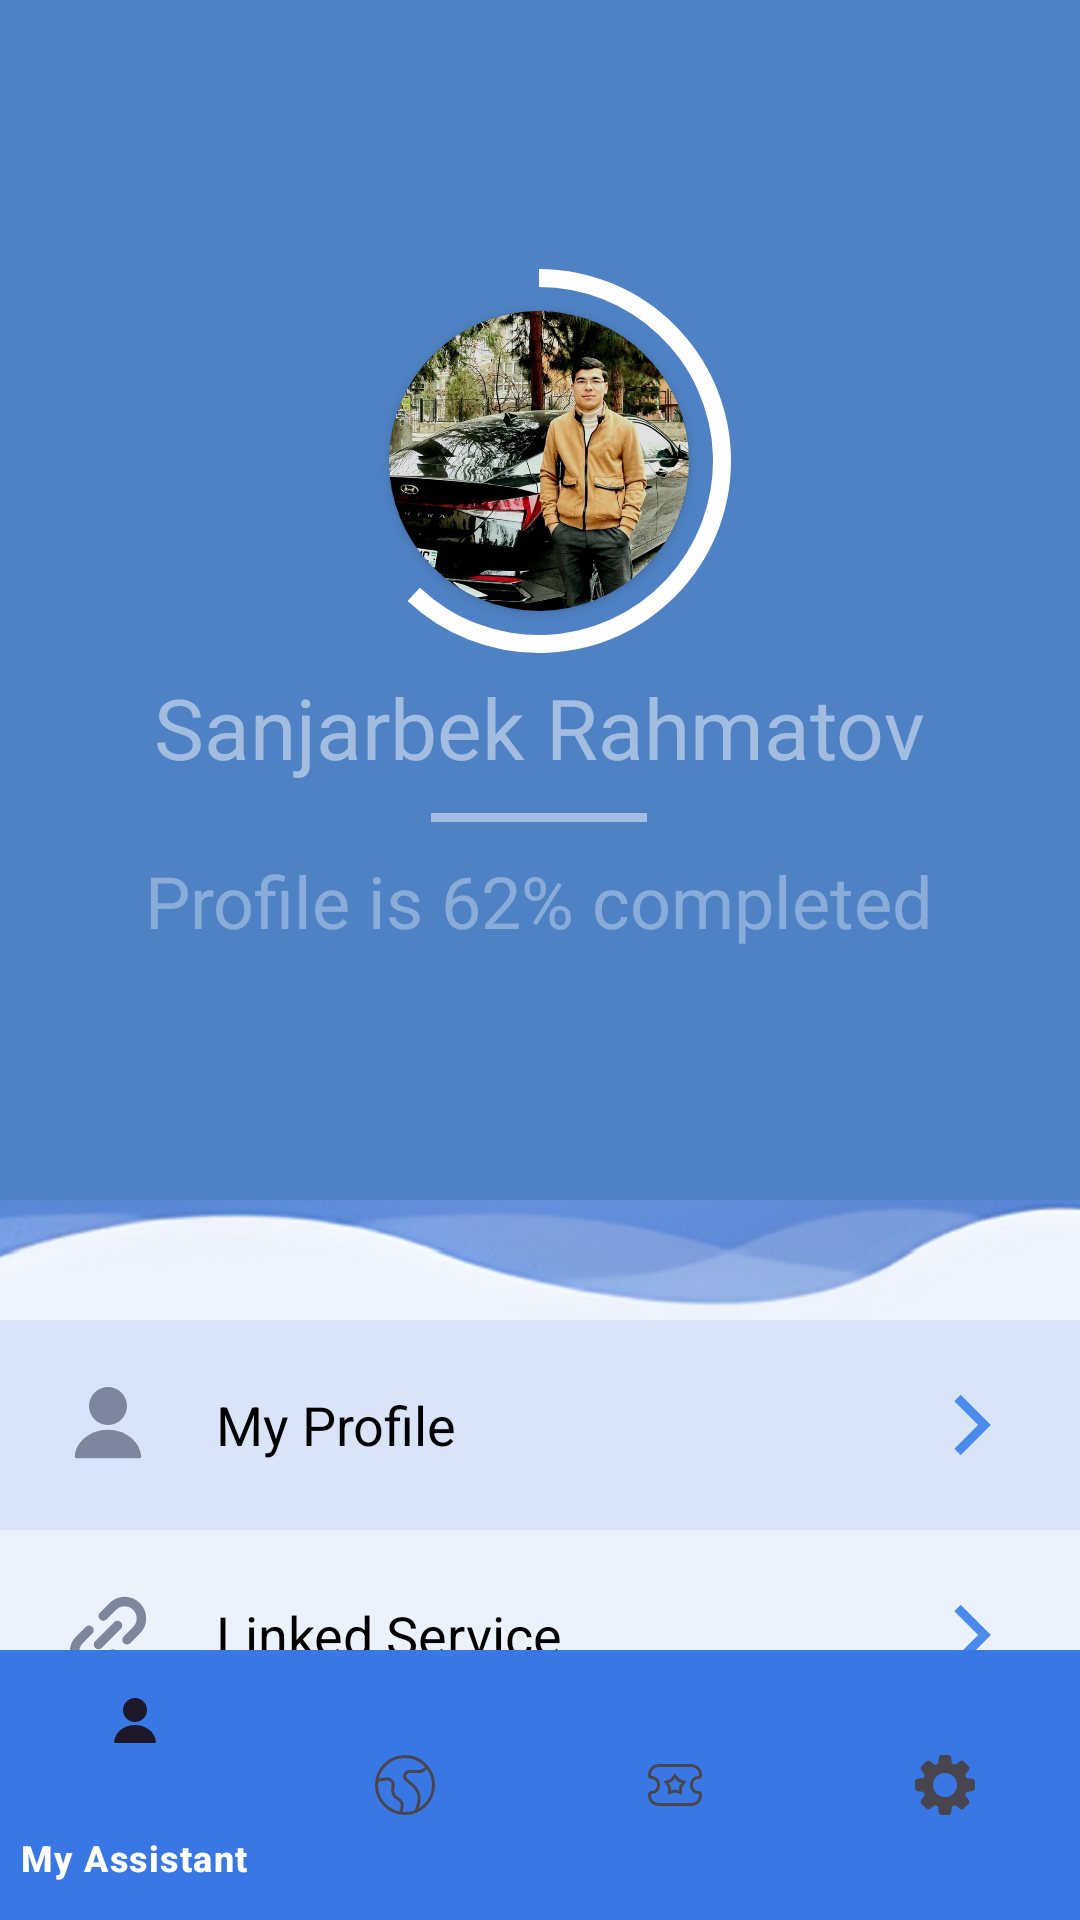

Icons on this 1080px×1920px Android screen, each with its box as (x1, y1, x2, y2):
person: (75, 1387, 141, 1458)
